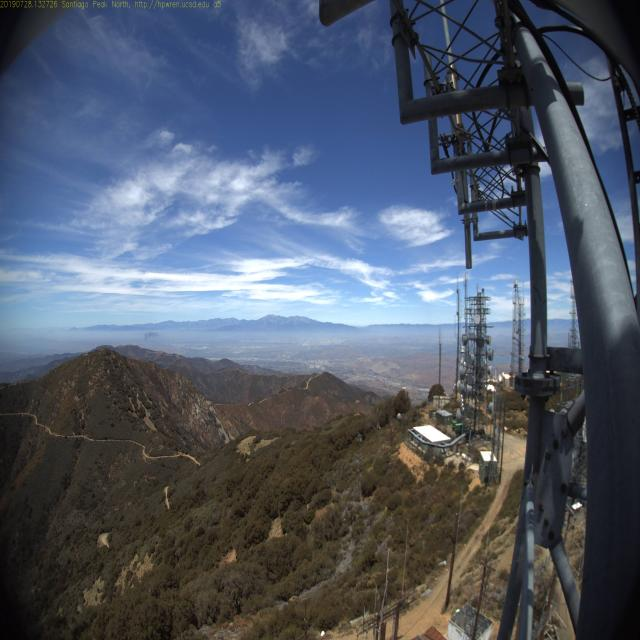smoke: (138, 322, 160, 345)
